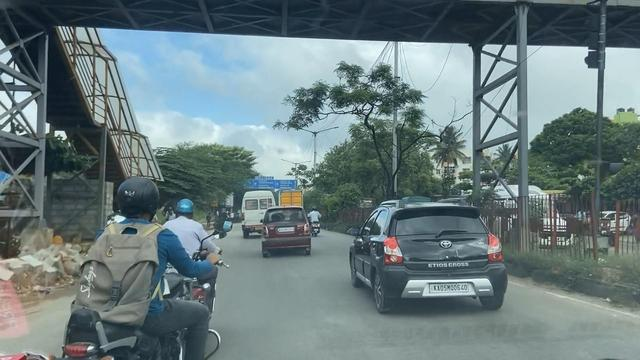LMV: (345, 199, 497, 308), (261, 211, 310, 253), (310, 209, 319, 235)
